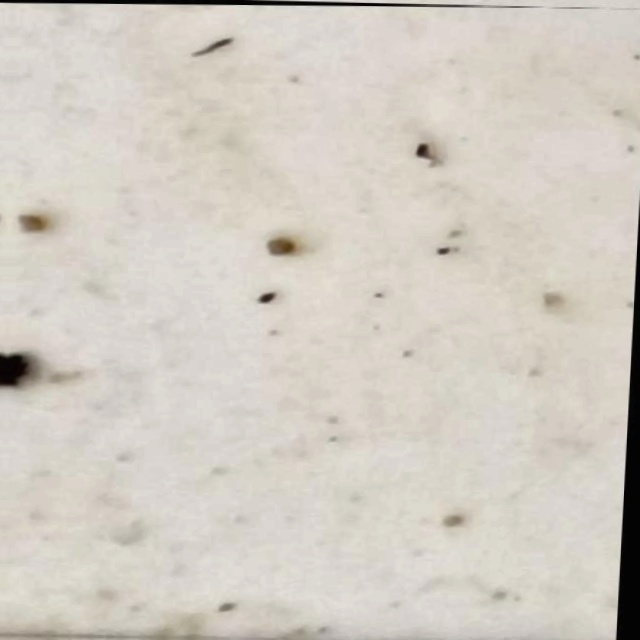varroa: (7, 348, 39, 394)
